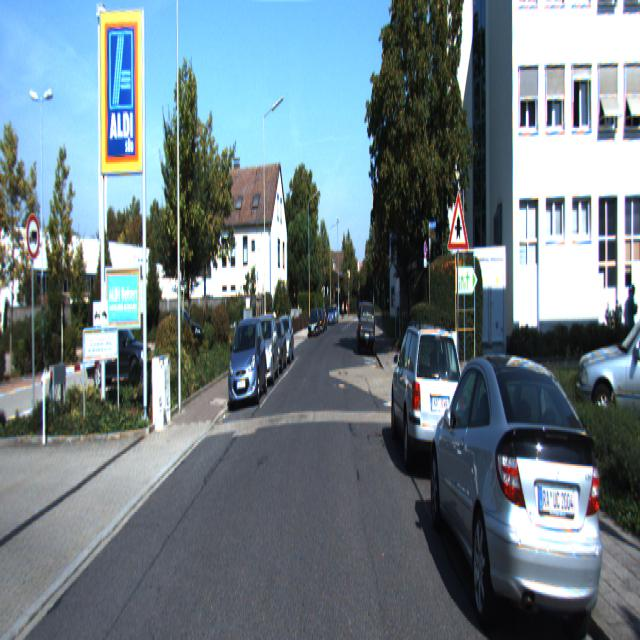Car: (427, 345, 616, 638), (390, 321, 468, 491), (574, 306, 640, 458), (86, 320, 155, 392), (227, 316, 268, 410), (248, 313, 280, 390), (263, 320, 288, 376), (273, 316, 295, 367), (357, 301, 376, 358)
